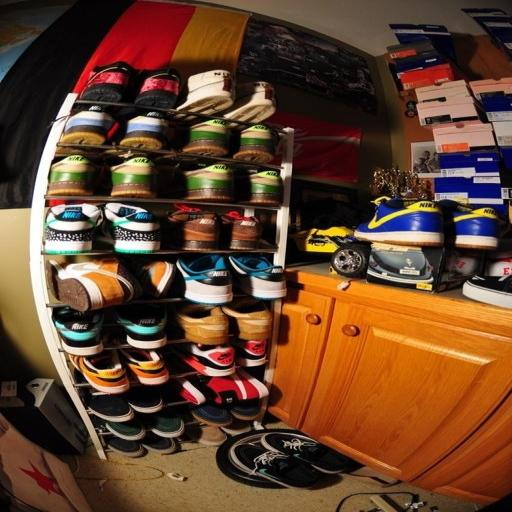shoe: (47, 258, 141, 311), (354, 196, 444, 247), (231, 443, 322, 489), (260, 430, 354, 474), (199, 368, 269, 420), (96, 202, 161, 254), (437, 199, 500, 250), (43, 203, 103, 254), (173, 70, 234, 120), (176, 253, 233, 305), (228, 254, 287, 300), (220, 81, 276, 129), (69, 350, 130, 394), (52, 306, 104, 356), (167, 204, 221, 252), (113, 303, 167, 350), (79, 61, 135, 103), (175, 303, 229, 346), (221, 296, 273, 340), (47, 154, 99, 196), (173, 342, 235, 377), (60, 106, 115, 145), (183, 163, 234, 202), (118, 347, 170, 385), (134, 67, 181, 109), (110, 156, 157, 198), (119, 112, 169, 150), (130, 260, 177, 298), (235, 169, 283, 206), (233, 124, 277, 164), (181, 120, 229, 156), (220, 210, 263, 250), (462, 275, 512, 309), (85, 392, 135, 422), (143, 408, 185, 438), (122, 386, 164, 414), (189, 402, 233, 427), (230, 339, 267, 367), (105, 417, 146, 441), (186, 424, 228, 446), (107, 436, 147, 458), (140, 432, 178, 454), (230, 398, 262, 420), (220, 418, 252, 436)
